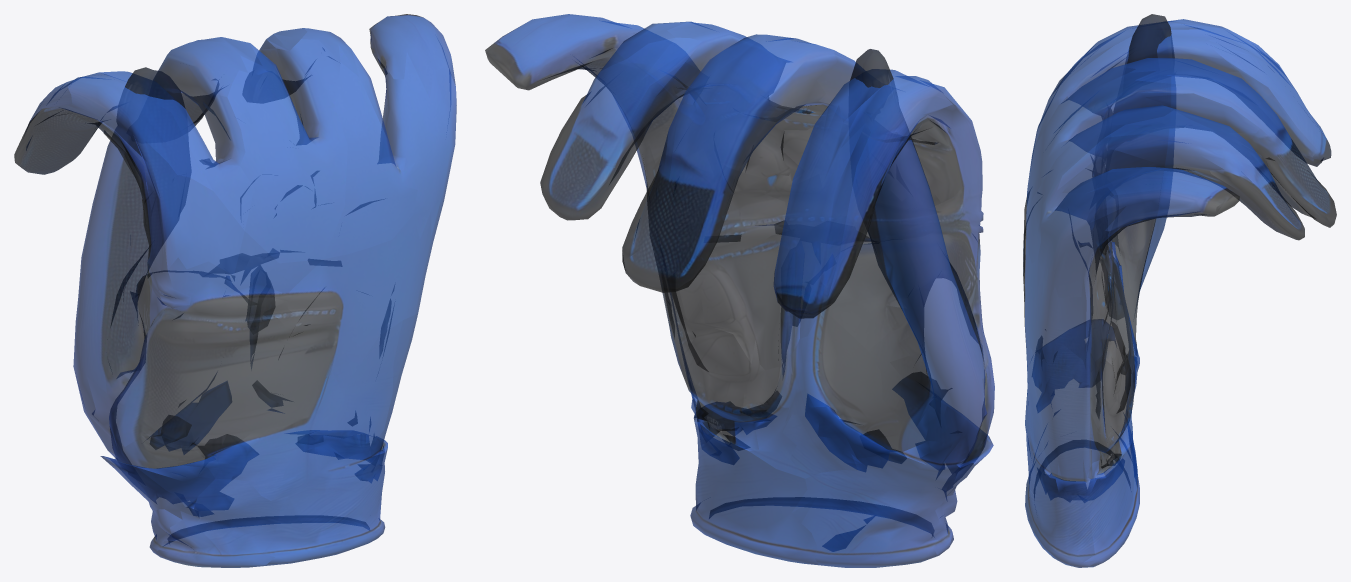
The model's file is gloves-preview-grip.glb.
3 renders of one model, left to right at view 1: azimuth 30°, elevation 25°; view 2: azimuth 150°, elevation 25°; view 3: azimuth 270°, elevation 25°, orthographic. The views are drawn at different scales.
Parts seen in each view (by area): view 1: tripo_mesh_5e8ee832-072e-42f9-8edf-a4566c71d52b; view 2: tripo_mesh_5e8ee832-072e-42f9-8edf-a4566c71d52b; view 3: tripo_mesh_5e8ee832-072e-42f9-8edf-a4566c71d52b.
Part boxes in pixels (<box>): tripo_mesh_5e8ee832-072e-42f9-8edf-a4566c71d52b: <box>14,14,456,567</box>; tripo_mesh_5e8ee832-072e-42f9-8edf-a4566c71d52b: <box>485,14,994,567</box>; tripo_mesh_5e8ee832-072e-42f9-8edf-a4566c71d52b: <box>1023,14,1336,567</box>.
Bounding box in the file's own units: 0.1369 × 0.1618 × 0.0994.
Materials: 1 (1 with a texture image).
